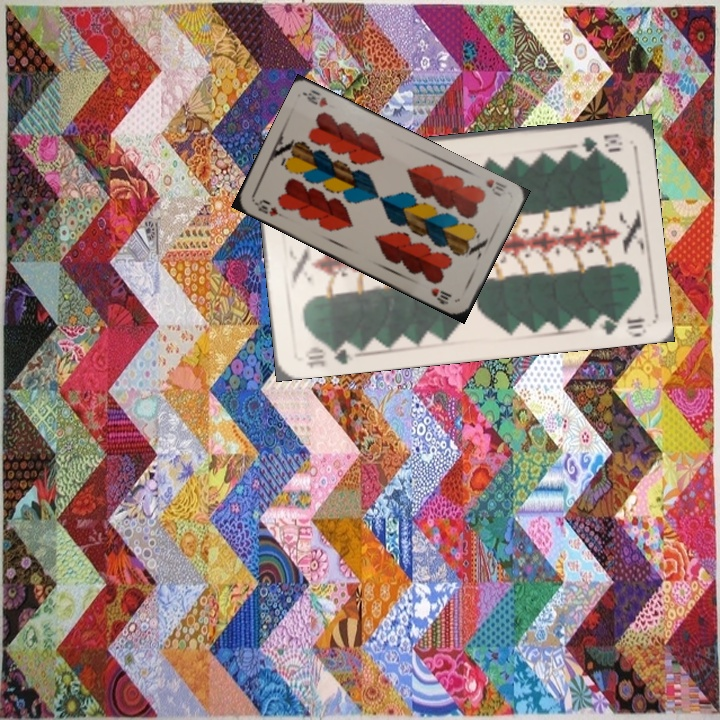G10: (300, 338, 357, 370), (578, 129, 625, 155)
H10: (250, 195, 281, 219), (481, 175, 509, 199)
